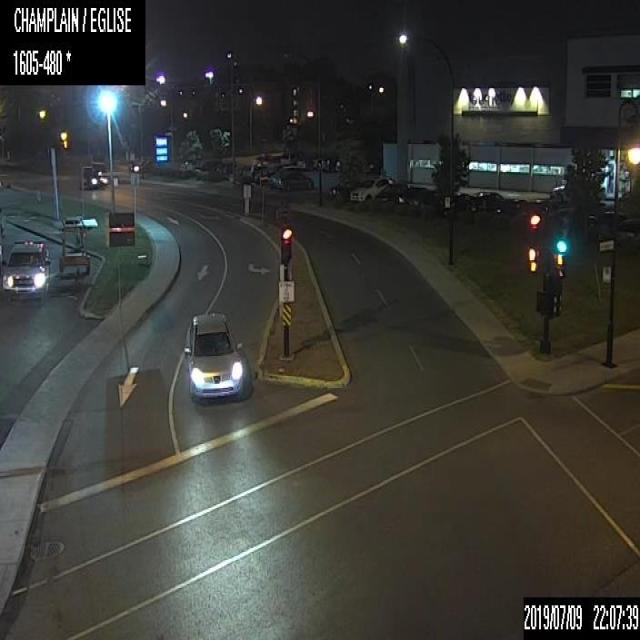construction: (56, 213, 98, 274)
vehicle: (182, 309, 244, 403), (0, 240, 51, 305), (546, 206, 595, 234), (348, 174, 394, 200), (268, 167, 313, 190), (515, 198, 549, 223), (436, 192, 471, 216), (494, 198, 525, 224), (78, 165, 108, 191), (466, 191, 503, 211), (328, 178, 362, 199), (374, 182, 407, 201), (408, 189, 443, 206), (398, 185, 427, 201), (253, 154, 283, 169), (216, 159, 237, 178), (552, 184, 574, 201), (198, 158, 222, 172), (239, 164, 262, 178), (130, 158, 152, 172), (178, 158, 198, 172), (260, 170, 276, 186), (280, 150, 298, 164)
